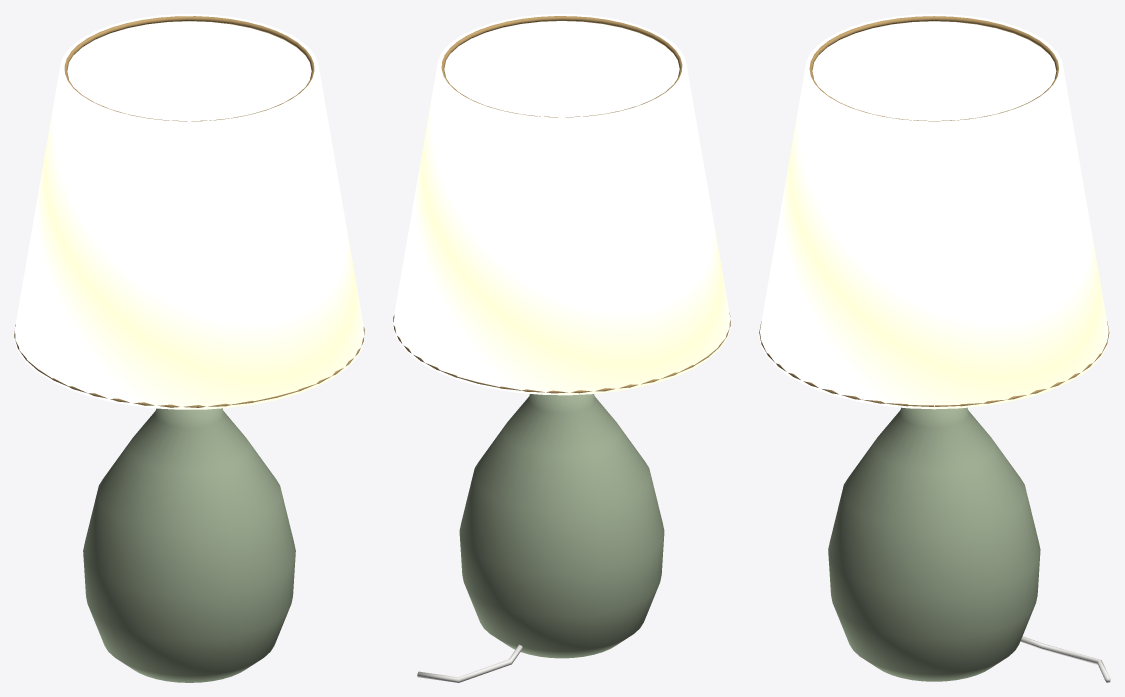
File: bedside_lamp.glb
3 views of the same model, side by side, from view 1: azimuth 30°, elevation 25°; view 2: azimuth 150°, elevation 25°; view 3: azimuth 270°, elevation 25° (orthographic). The views are drawn at different scales.
Parts seen in each view (by area): view 1: bedside_lamp_shade, bedside_lamp_base, bedside_lamp_fitter; view 2: bedside_lamp_shade, bedside_lamp_base, bedside_lamp_fitter, bedside_lamp_cord; view 3: bedside_lamp_shade, bedside_lamp_base, bedside_lamp_fitter, bedside_lamp_cord.
Part boxes in pixels (bbox=[...]): bedside_lamp_shade: bbox=[14, 14, 364, 409]; bedside_lamp_base: bbox=[83, 408, 295, 682]; bedside_lamp_fitter: bbox=[14, 16, 364, 407]; bedside_lamp_shade: bbox=[393, 14, 730, 395]; bedside_lamp_base: bbox=[459, 394, 664, 658]; bedside_lamp_fitter: bbox=[393, 16, 730, 393]; bedside_lamp_cord: bbox=[417, 644, 522, 682]; bedside_lamp_shade: bbox=[759, 14, 1109, 409]; bedside_lamp_base: bbox=[828, 407, 1040, 681]; bedside_lamp_fitter: bbox=[759, 16, 1109, 406]; bedside_lamp_cord: bbox=[1020, 636, 1110, 682].
Bounding box in the file's own units: 0.244 × 0.45 × 0.2449.
